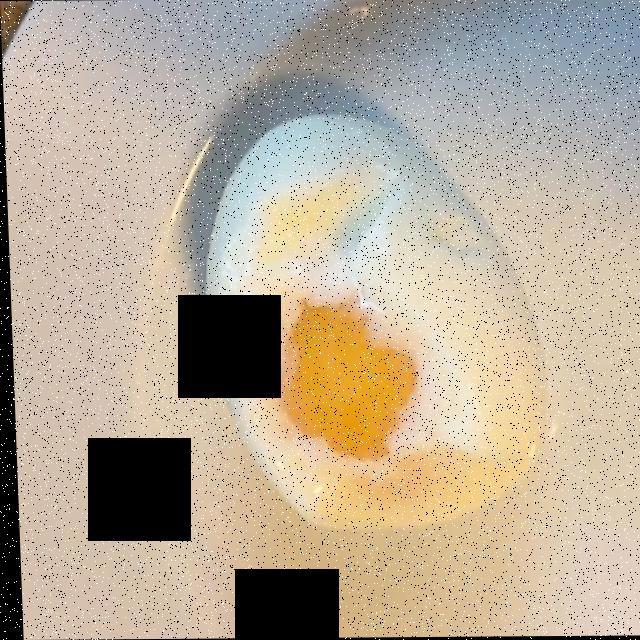egg: (210, 115, 537, 527)
